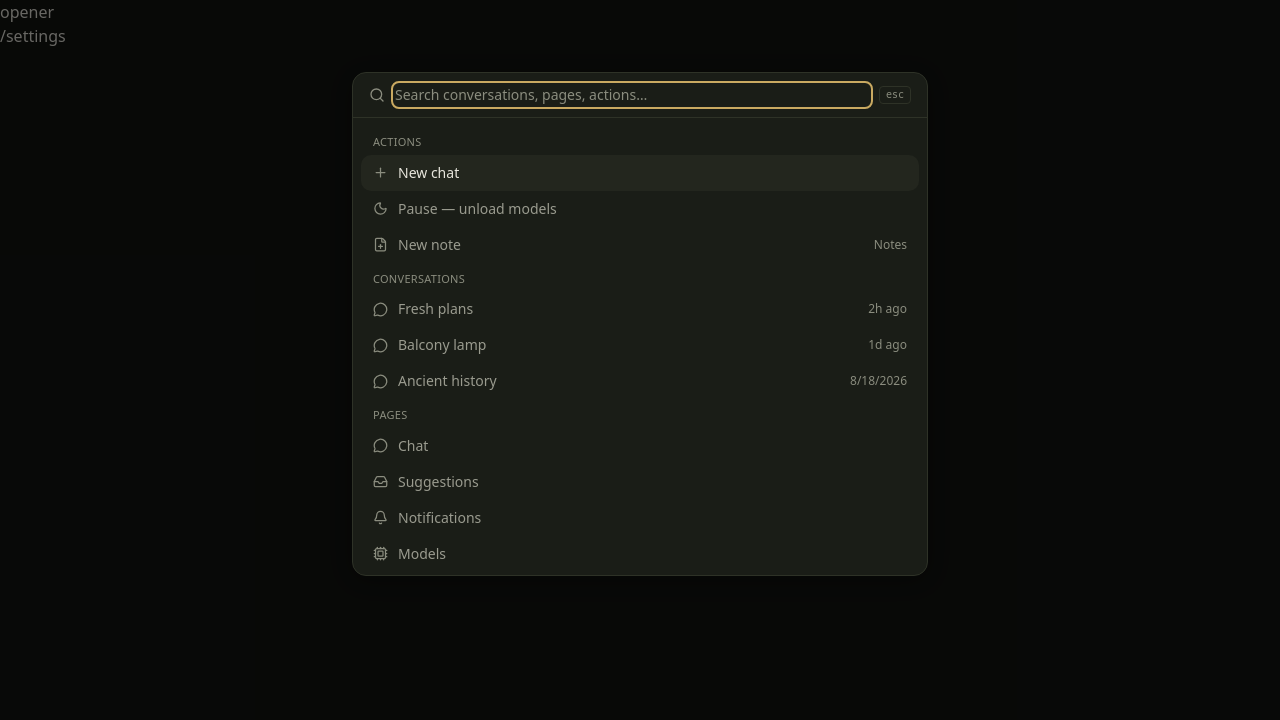
Command palette (#491) › navigates to a page picked by search
Expected: the text "Fresh plans" is shown, 398,299 -> 473,318
Type "files" into the dropdown at (632, 95), box 395,85 -> 869,105
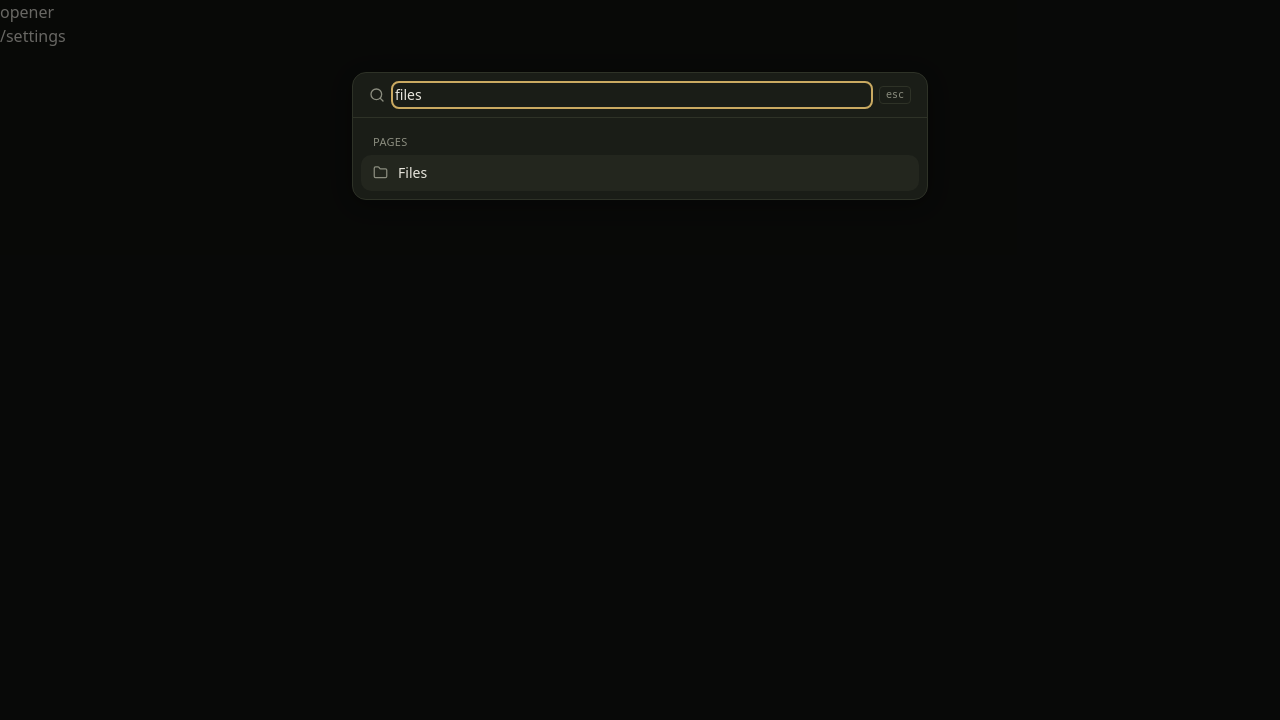
Press Enter in the dropdown, box 395,85 -> 869,105
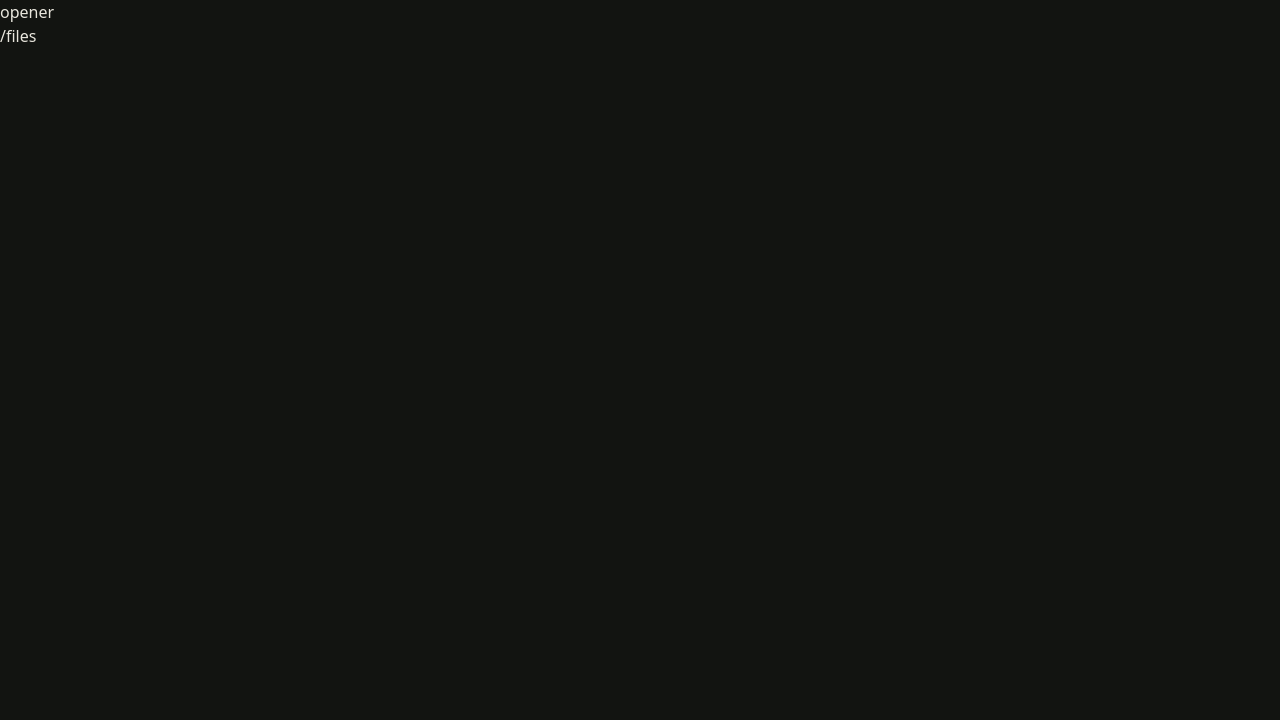
Result: the text with test id "location" reads "/files" at 0,25 -> 36,47
